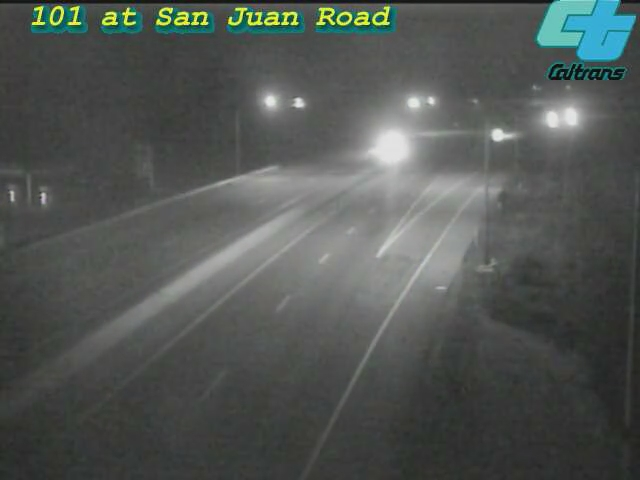vehicle: (362, 121, 412, 171), (472, 111, 522, 161), (529, 94, 579, 144), (545, 92, 595, 142)
